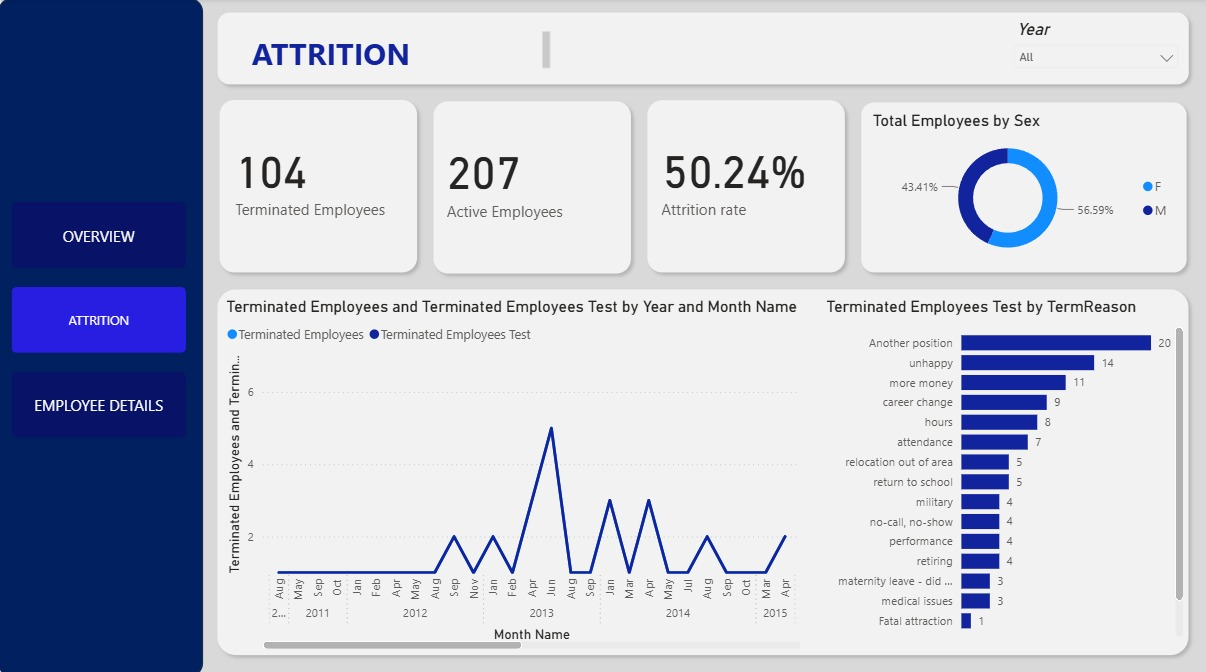

The dashboard page shown, as its layout file describes it:
{"tool":"powerbi","page":{"name":"ATTRITION","canvas":[1280,720],"ordinal":1},"visuals":[{"type":"slicer","fields":{"Values":["Date Table.Year"]},"box":[1067.3,17.5,194.1,84.3],"z":0},{"type":"textbox","box":[264,30.2,326.1,50.9],"z":1000},{"type":"cardVisual","fields":{"Data":["_measures.Terminated Employees"]},"box":[246.5,127.2,198.8,141.6],"z":2000},{"type":"cardVisual","fields":{"Data":["_measures.Active Employees"]},"box":[470.8,128.8,198.8,141.6],"z":3000},{"type":"cardVisual","fields":{"Data":["_measures.Attrition rate"]},"box":[698.3,127.2,198.8,141.6],"z":4000},{"type":"donutChart","fields":{"Y":["_measures.Total Employees"],"Category":["HRDataset.Sex"]},"box":[922.6,119.3,330.8,165.4],"z":5000},{"type":"lineChart","fields":{"Y":["_measures.Terminated Employees","_measures.Terminated Employees Test"],"Category":["Date Table.Year","Date Table.Month Name"]},"box":[237,316.5,618.7,378.6],"z":6000},{"type":"barChart","fields":{"Y":["_measures.Terminated Employees Test"],"Category":["HRDataset.TermReason"]},"box":[873.2,316.5,388.1,365.8],"z":7000},{"type":"pageNavigator","box":[14.1,215.6,185.6,252.7],"z":8000}]}

Visuals, with their boxes on the page's 1280x720 design canvas (x1, y1, x2, y2). These are canvas units, not pixel positions in the 1206x672 screenshot, which may show the page scaled, cropped or inside an application window:
slicer - Date Table.Year: bbox=(1067, 18, 1261, 102)
textbox: bbox=(264, 30, 590, 81)
cardVisual - _measures.Terminated Employees: bbox=(246, 127, 445, 269)
cardVisual - _measures.Active Employees: bbox=(471, 129, 670, 270)
cardVisual - _measures.Attrition rate: bbox=(698, 127, 897, 269)
donutChart - _measures.Total Employees x HRDataset.Sex: bbox=(923, 119, 1253, 285)
lineChart - _measures.Terminated Employees x _measures.Terminated Employees Test: bbox=(237, 316, 856, 695)
barChart - _measures.Terminated Employees Test x HRDataset.TermReason: bbox=(873, 316, 1261, 682)
pageNavigator: bbox=(14, 216, 200, 468)
